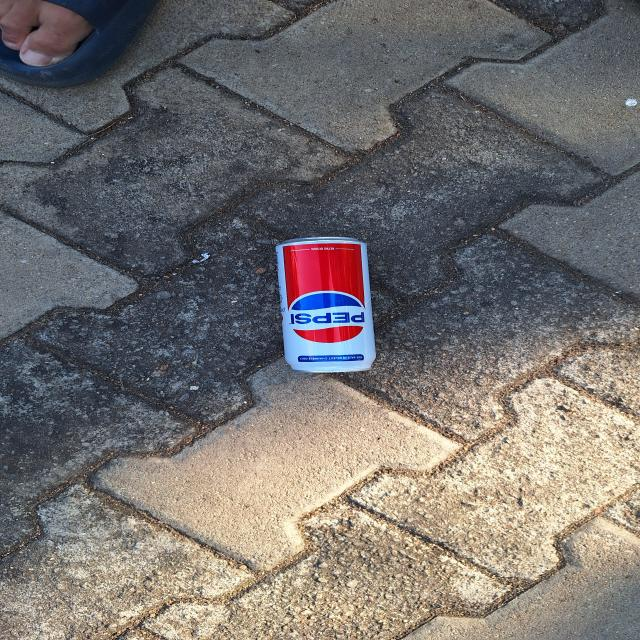Pepsi Retro: (274, 237, 379, 375)
